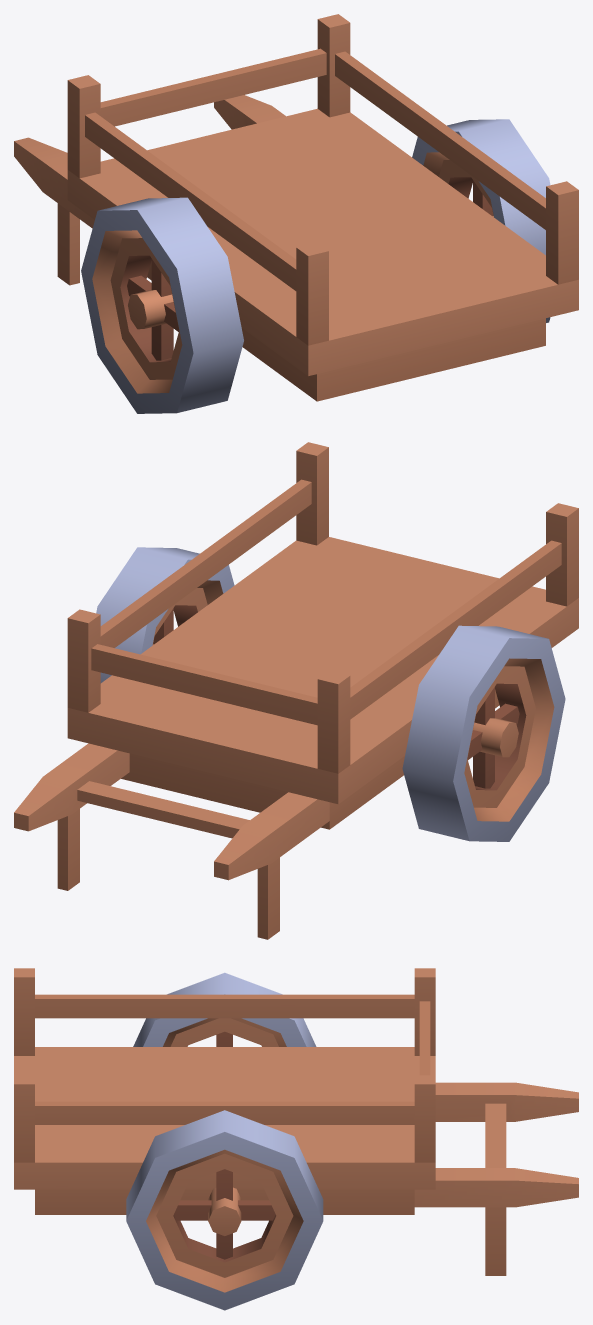
The model's file is cart.glb.
3 renders of one model, top to bottom at view 1: azimuth 30°, elevation 25°; view 2: azimuth 150°, elevation 25°; view 3: azimuth 270°, elevation 25°, orthographic. The views are drawn at different scales.
Parts seen in each view (by area): view 1: cart, Group (×2); view 2: cart, Group (×2); view 3: cart, Group (×2).
Part boxes in pixels (box(x1,y1,x2,y2)): cart: box(14, 14, 578, 401); Group (×2): box(81, 119, 550, 413); cart: box(14, 442, 578, 939); Group (×2): box(96, 547, 565, 841); cart: box(14, 968, 578, 1275); Group (×2): box(126, 972, 323, 1310).
Bounding box in the file's own units: 0.893 × 0.5355 × 1.34.
Materials: 1 (1 with a texture image).
